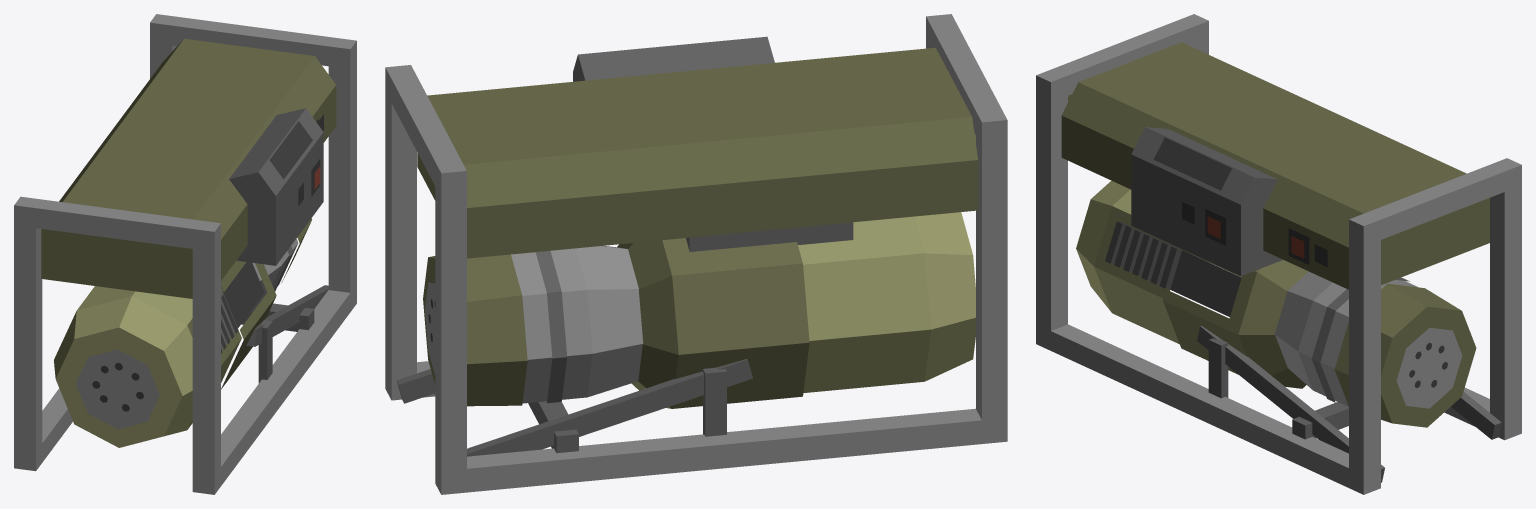
File: power.glb
3 views of the same model, side by side, from view 1: azimuth 30°, elevation 25°; view 2: azimuth 150°, elevation 25°; view 3: azimuth 270°, elevation 25° (orthographic). The views are drawn at different scales.
Visible parts, largest first — view 1: Cylinder.001; view 2: Cylinder.001; view 3: Cylinder.001.
Part boxes in pixels (left/top/right/bottom): Cylinder.001: left=14, top=14, right=356, bottom=494; Cylinder.001: left=385, top=14, right=1007, bottom=494; Cylinder.001: left=1036, top=14, right=1521, bottom=494.
Bounding box in the file's own units: 7.12 × 4.32 × 6.89.
